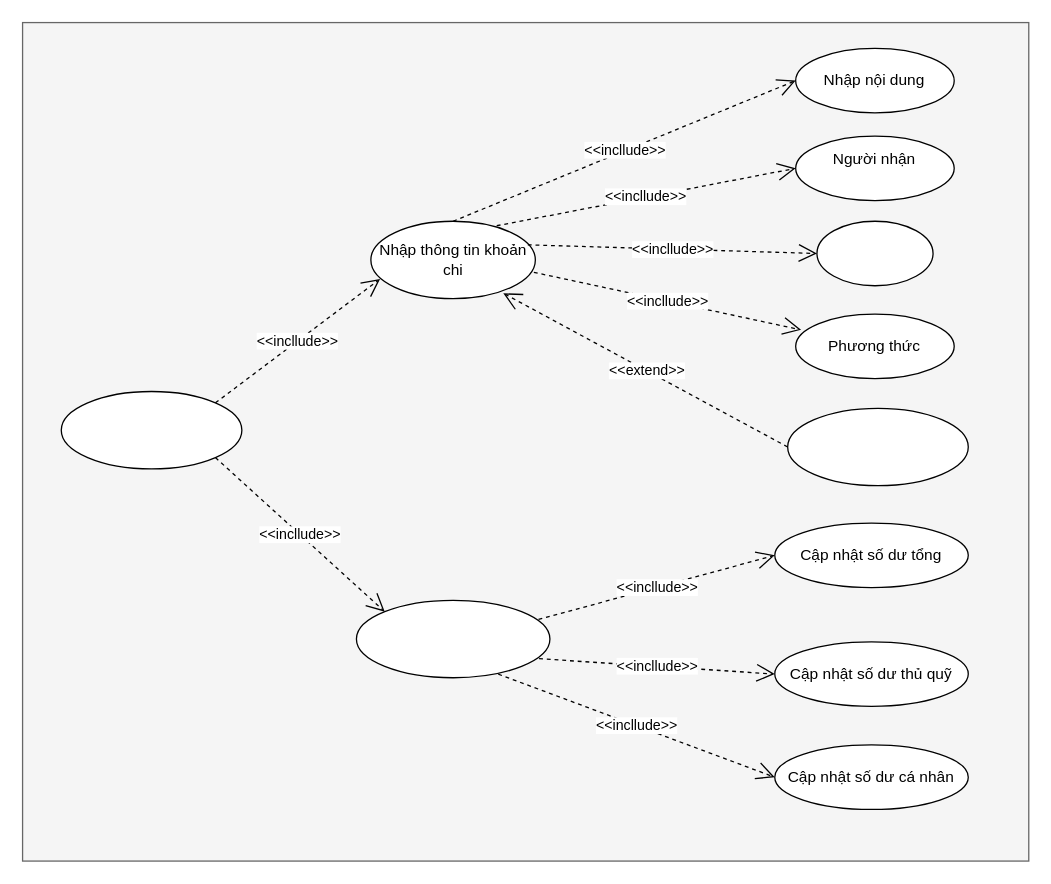
This 1051x884 diagram has some shape labels left out. Each missing label, with the centre of its shape:
"Hệ thống cập nhật số dư quỹ" goes at point (452, 638).
"Số tiền" goes at point (874, 253).
"Tạo khoản chi" goes at point (151, 429).
"Đính kèm minh chứng(nếu có)" goes at point (877, 446).
